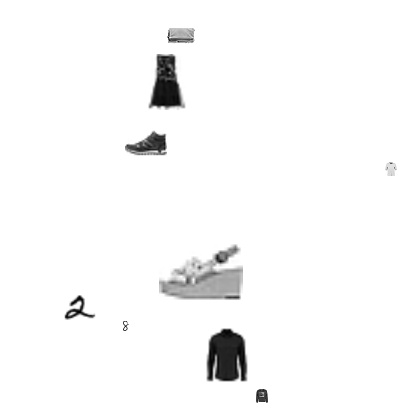2: (56, 288, 98, 330)
8: (118, 319, 132, 333)
Bag: (167, 22, 195, 50)
Dress: (139, 54, 195, 110)
Pullover: (255, 389, 269, 403)
Sandal: (159, 230, 243, 314)
Shirt: (199, 327, 255, 383)
Sneaker: (125, 122, 167, 164)
T-shirt/top: (384, 162, 398, 176)
